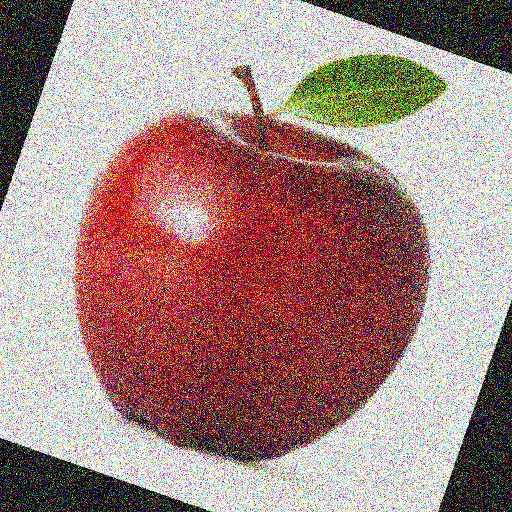fruit: (0, 69, 176, 418), (140, 24, 381, 207), (247, 84, 253, 88)
